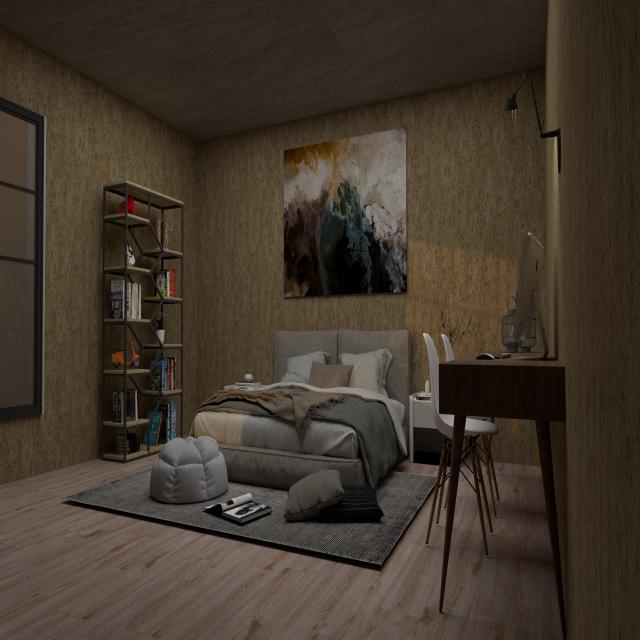floor: (0, 452, 563, 640), (390, 454, 439, 477), (460, 463, 476, 491), (464, 459, 473, 473), (446, 467, 450, 475)
wall: (197, 70, 549, 408), (0, 25, 200, 485), (545, 0, 640, 640), (283, 127, 408, 297), (529, 66, 545, 133), (104, 376, 124, 421), (105, 273, 125, 318), (105, 222, 125, 267), (105, 324, 124, 370), (163, 207, 182, 252), (163, 258, 182, 298), (127, 271, 155, 297), (131, 226, 159, 252), (163, 349, 181, 389), (163, 304, 181, 344), (165, 395, 181, 438), (130, 324, 161, 346), (131, 349, 161, 369), (127, 228, 142, 264), (139, 396, 162, 419), (104, 427, 124, 453), (127, 325, 141, 362), (106, 190, 125, 216), (151, 207, 162, 239), (141, 302, 159, 319), (129, 425, 146, 443), (136, 256, 157, 270), (134, 200, 149, 219), (133, 374, 150, 390), (151, 306, 161, 333), (127, 377, 138, 391)
